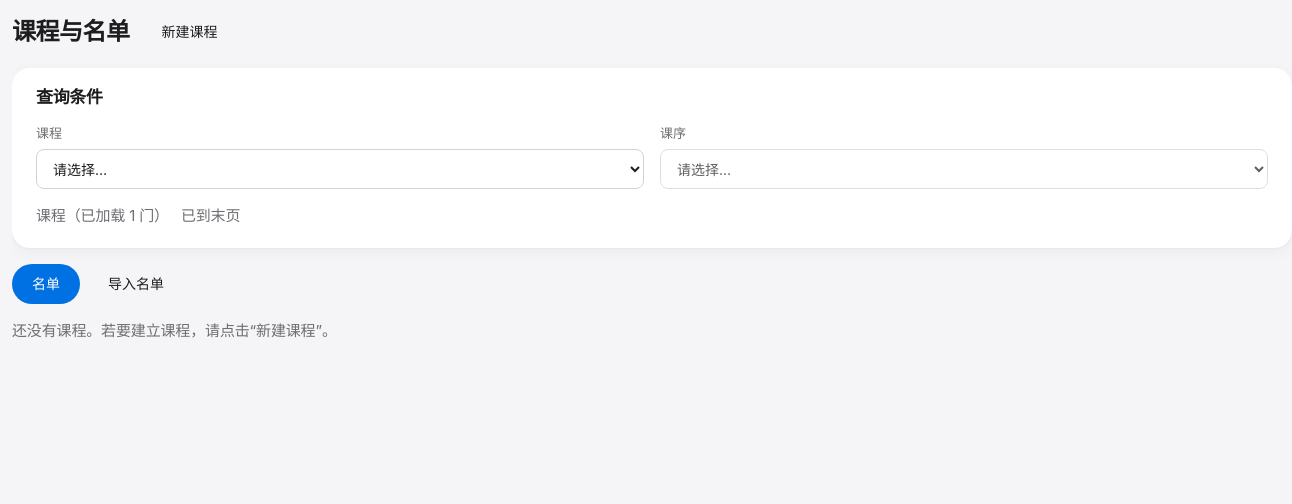
课程与名单工作区（P12） › 导入名单是同一页的第二个标签，选好作用域后不再要求补选
Select "OS-2026 · 操作系统" in the dropdown labelled "课程": (340,169) [36,149,644,189]
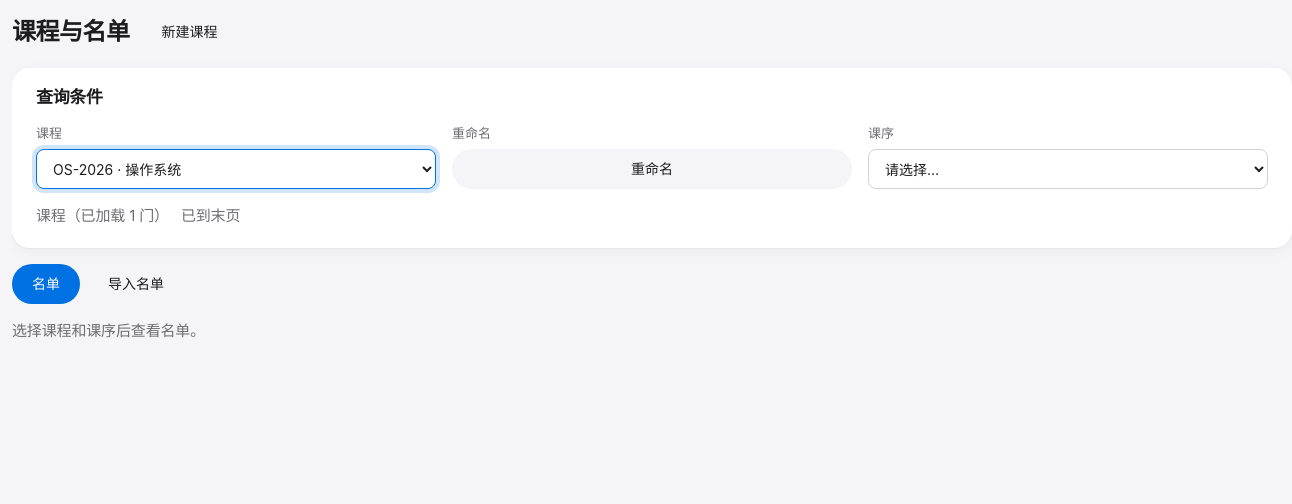
Select "01" in the dropdown labelled "课序": (1068,169) [868,149,1268,189]
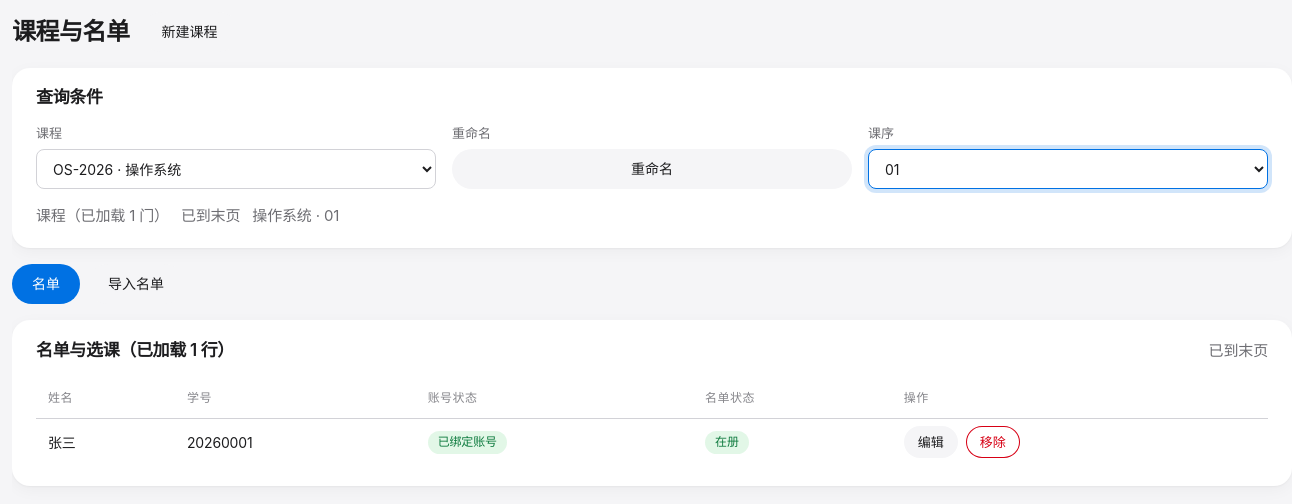
Click the tab "导入名单": (136,284) [88,264,184,304]
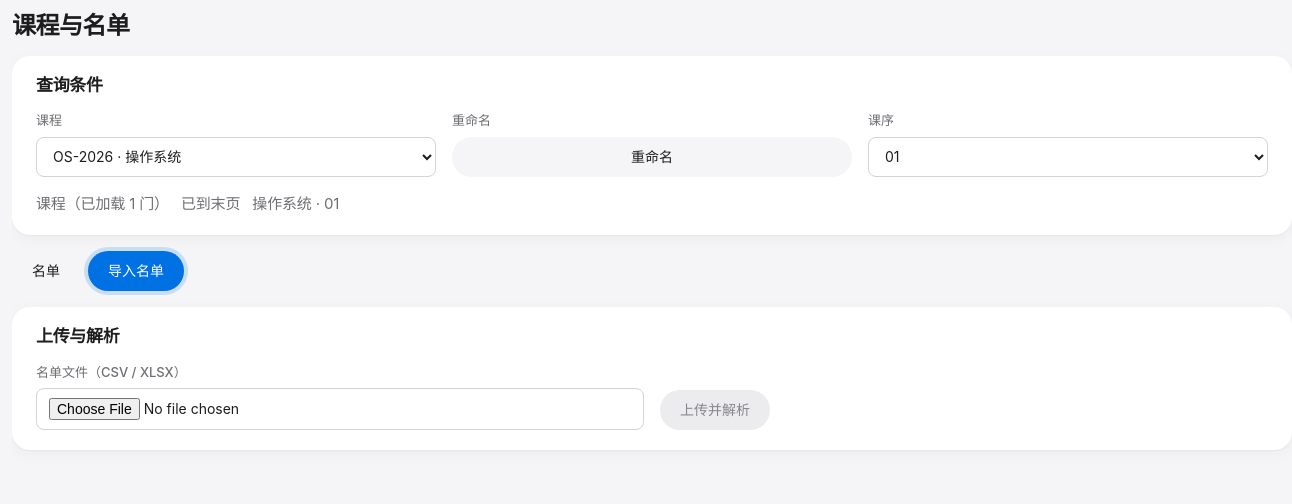
Check: the form with test id "upload-form" is shown, box [36,364,770,430]
